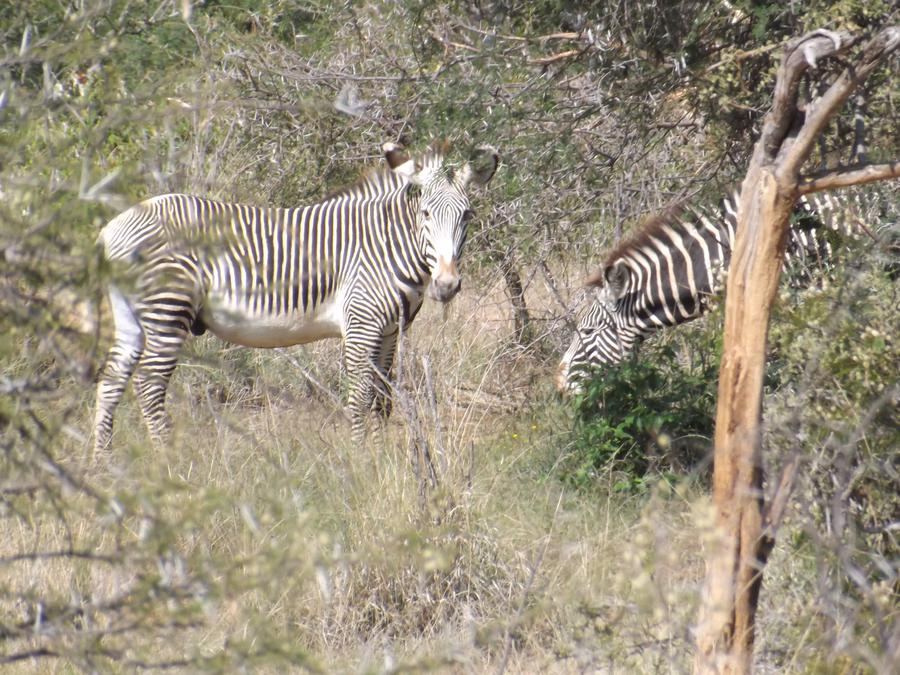zebra_grevys: (80, 163, 395, 327)
